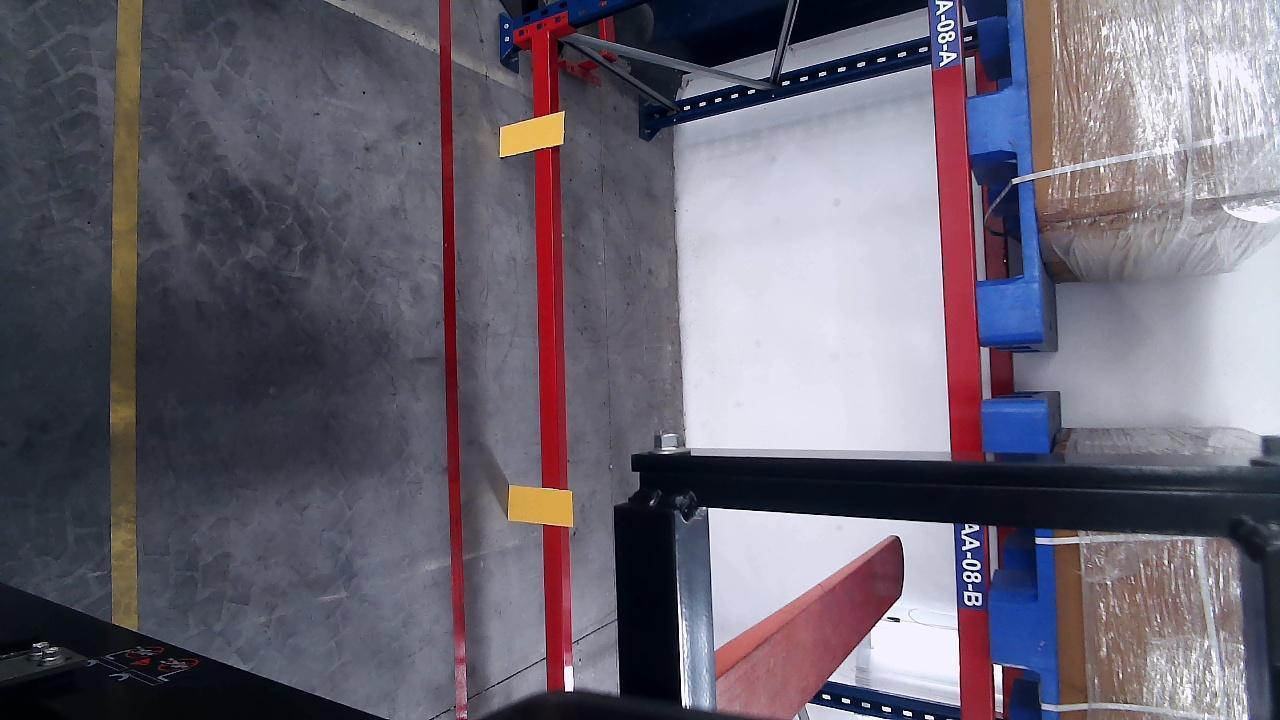h_rack: (929, 0, 997, 720), (525, 34, 575, 689)
orange_strip: (498, 109, 565, 157), (510, 488, 572, 526)
red_line: (438, 1, 469, 720)
small_pallet: (960, 2, 1043, 339), (983, 407, 1061, 720)
yellow_line: (112, 0, 144, 628)
